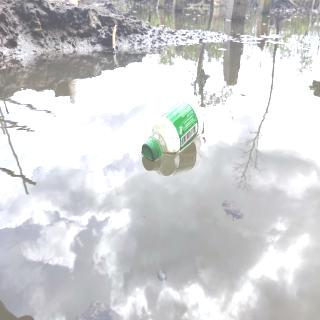bottle: (140, 91, 210, 164)
